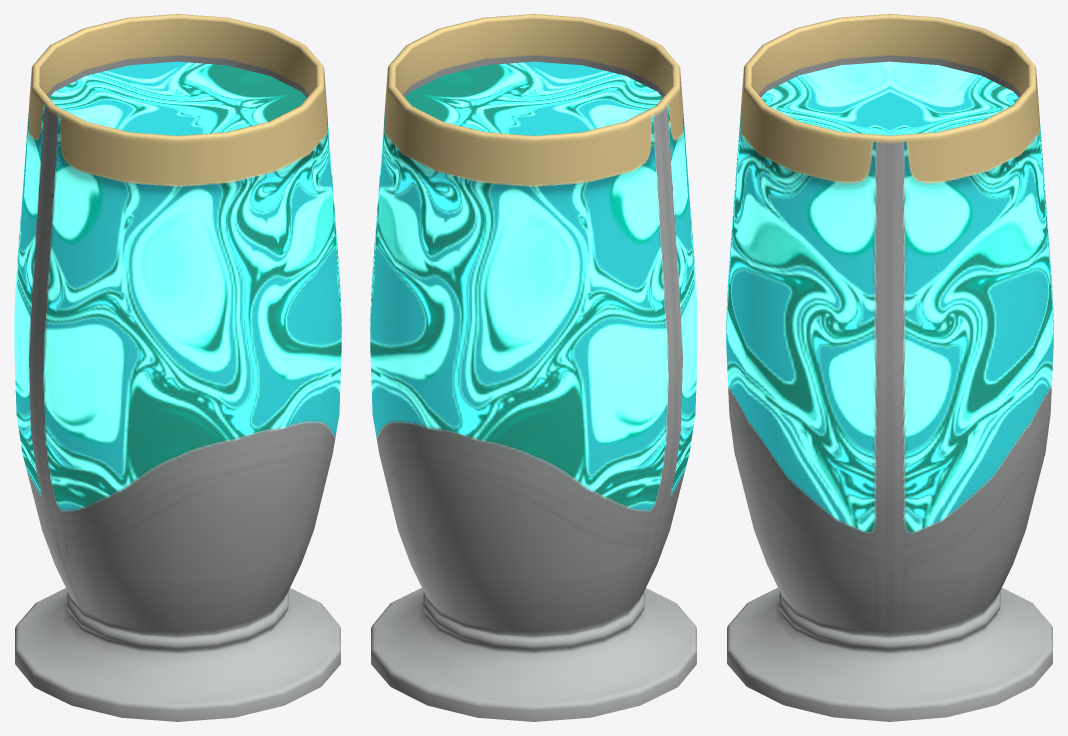
Rendered from BarCocktails02_2.FBX.
3 renders of one model, left to right at view 1: azimuth 30°, elevation 25°; view 2: azimuth 150°, elevation 25°; view 3: azimuth 270°, elevation 25°, orthographic.
Parts seen in each view (by area): view 1: BarCocktails02_2; view 2: BarCocktails02_2; view 3: BarCocktails02_2.
Part boxes in pixels (left/top/right/bottom): BarCocktails02_2: left=14, top=14, right=341, bottom=721; BarCocktails02_2: left=370, top=14, right=697, bottom=721; BarCocktails02_2: left=726, top=14, right=1053, bottom=721.
Size of what is drawn, in the model's own units: 0.0878 by 0.1678 by 0.0864.
